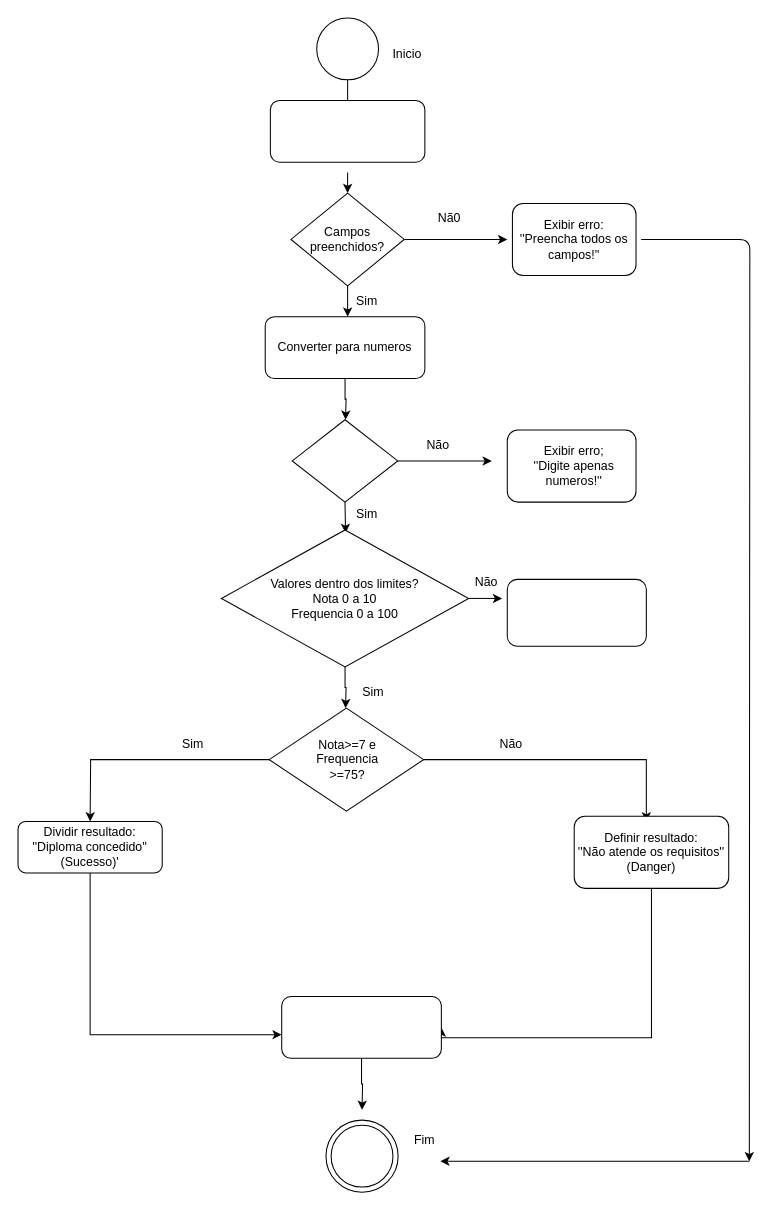
The diagram is 777 pixels wide and 1210 high, and some of its shapes have lost their labels. The centre of each missing label's shape, as x and y in pixels:
Conversão valida?: the point at 344,460
Exibir erro: ''Valores fora do intervalo permitido!'': the point at 576,612
Exibir resultado para o usuario: the point at 361,1026
Ler nota e frequencia: the point at 347,130
